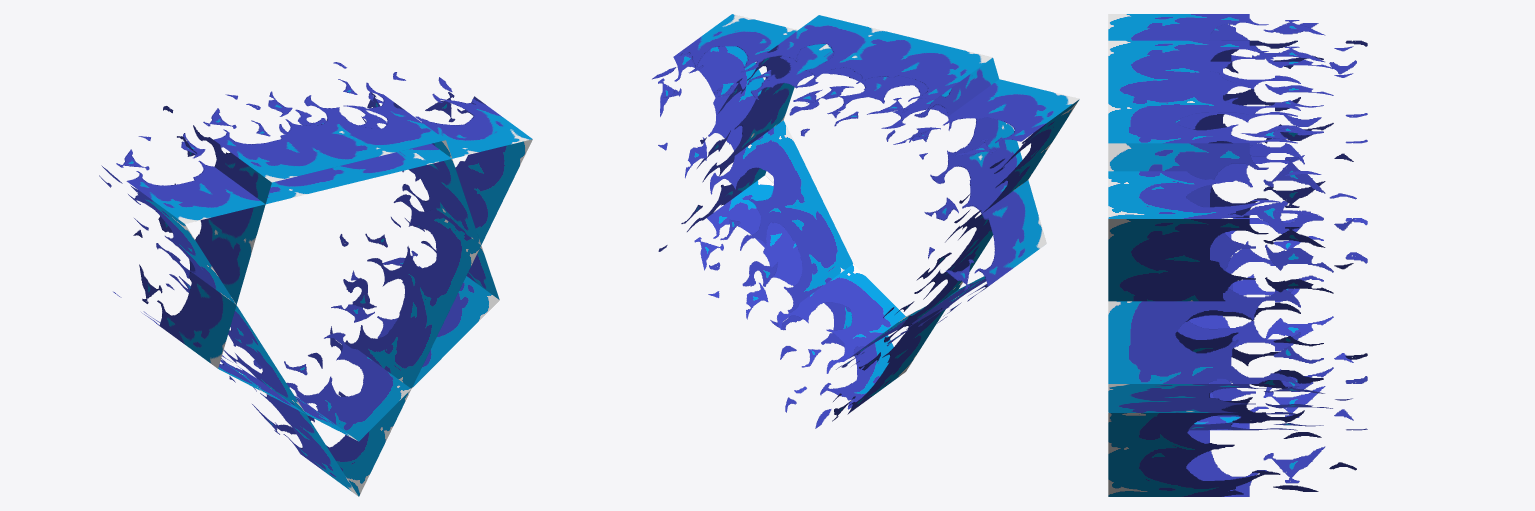
File: flames.fbx
3 views of the same model, side by side, from view 1: azimuth 30°, elevation 25°; view 2: azimuth 150°, elevation 25°; view 3: azimuth 270°, elevation 25° (orthographic). The views are drawn at different scales.
Visible parts, largest first — view 1: Flames1, Flames; view 2: Flames1, Flames; view 3: Flames1, Flames.
Boxes of the visible parts, left/top/right/bottom form: Flames1: left=99, top=72, right=532, bottom=496; Flames: left=113, top=62, right=499, bottom=441; Flames1: left=652, top=14, right=1079, bottom=428; Flames: left=658, top=15, right=1046, bottom=393; Flames1: left=1108, top=14, right=1367, bottom=496; Flames: left=1108, top=40, right=1367, bottom=430.
Bounding box in the file's own units: 235 × 217 × 200.
